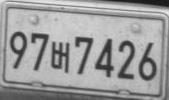2: (117, 39, 135, 79)
4: (93, 37, 115, 77)
6: (137, 41, 157, 81)
7: (30, 32, 50, 71), (74, 36, 93, 74)
9: (8, 30, 27, 69)
버: (50, 40, 71, 73)
